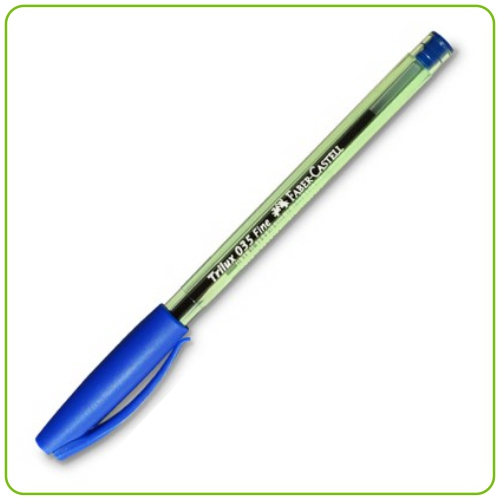qillqana: (27, 26, 460, 474)
